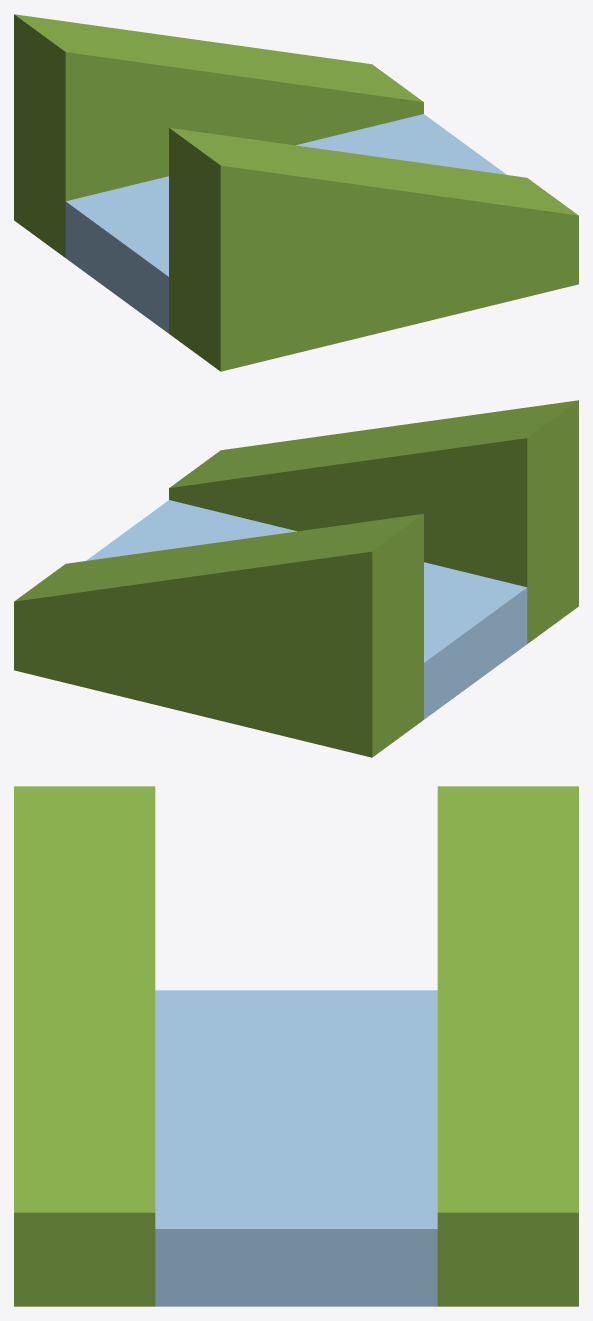
File: tile161.dae
The picture shows the model from 3 angles, top to bottom: view 1: azimuth 30°, elevation 25°; view 2: azimuth 150°, elevation 25°; view 3: azimuth 270°, elevation 25°; orthographic projection. The views are drawn at different scales.
Visible parts, largest first — view 1: tile161; view 2: tile161; view 3: tile161.
Part boxes in pixels (x1=…): tile161: x1=14, y1=14, x2=578, y2=371; tile161: x1=14, y1=400, x2=578, y2=757; tile161: x1=14, y1=786, x2=578, y2=1306.
Bounding box in the file's own units: 1 × 0.55 × 1.
